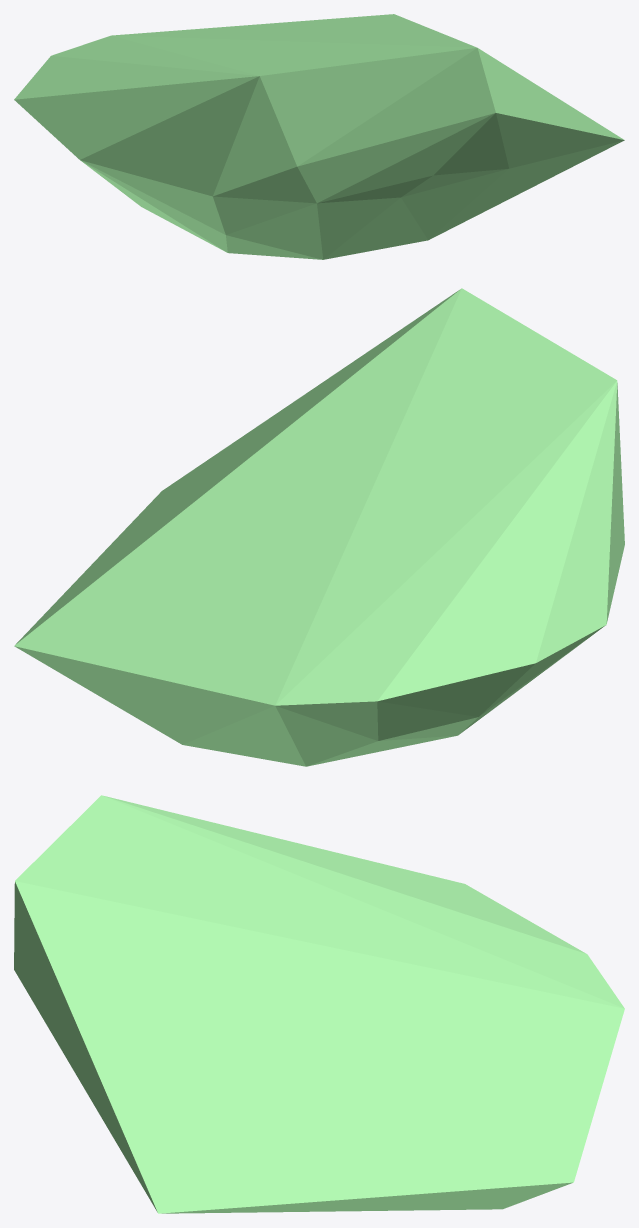
Rendered from panda_link7_resp_coll_12.dae.
3 renders of one model, top to bottom at view 1: azimuth 30°, elevation 25°; view 2: azimuth 150°, elevation 25°; view 3: azimuth 270°, elevation 25°, orthographic. The views are drawn at different scales.
Parts seen in each view (by area): view 1: node; view 2: node; view 3: node.
Part boxes in pixels (x1,y1,x2,y2): node: (14,14,624,259); node: (14,288,624,766); node: (14,795,624,1213).
Bounding box in the file's own units: 0.0984 × 0.0532 × 0.0962.
